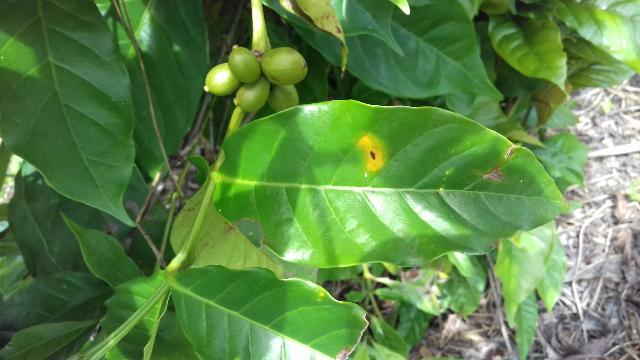rust_level_1: (212, 100, 575, 269)
